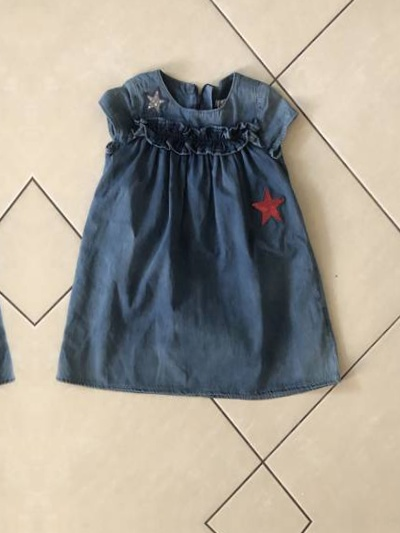Dress: (55, 7, 354, 406), (0, 12, 10, 412)
